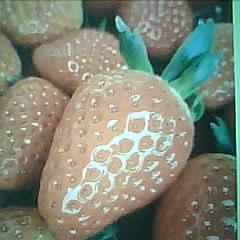straw-ripe: (39, 71, 194, 238)
